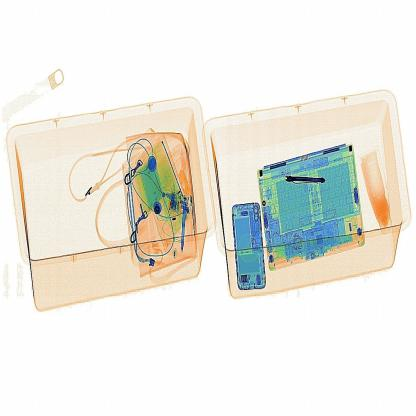knife: (277, 168, 334, 197)
